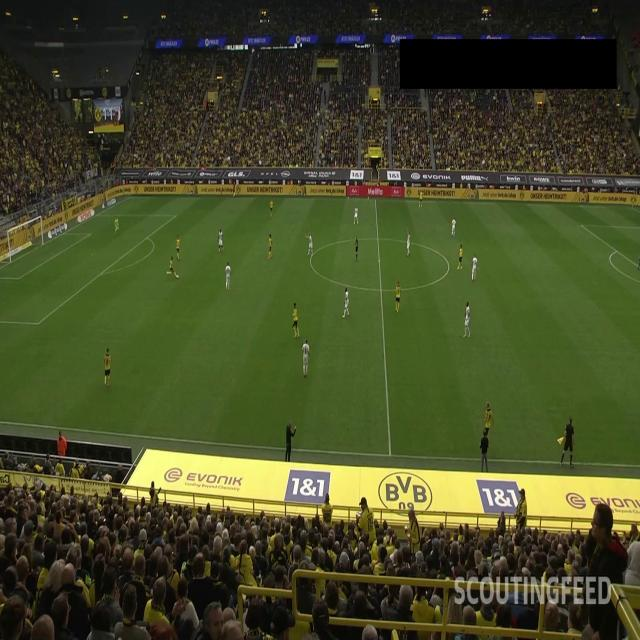ball: (176, 273, 179, 280)
team1: (484, 402, 496, 446), (102, 350, 111, 387), (292, 303, 300, 338), (394, 282, 402, 315), (166, 256, 177, 278), (267, 233, 273, 260), (457, 244, 463, 271), (268, 200, 274, 218), (176, 236, 180, 261), (419, 190, 424, 208)
team2: (301, 339, 311, 376), (463, 302, 471, 339), (342, 288, 351, 318), (305, 232, 314, 258), (471, 255, 479, 282), (225, 262, 231, 290), (406, 230, 411, 258), (218, 229, 224, 252), (450, 218, 456, 238), (354, 205, 359, 225)
